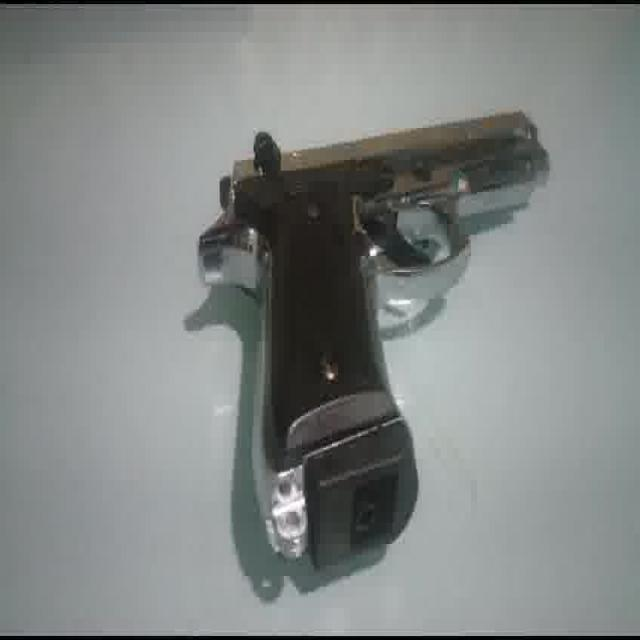weapon: (183, 107, 551, 569)
